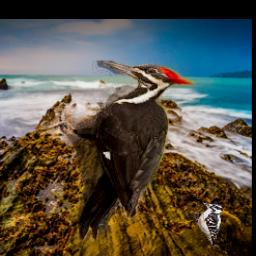Woodpecker: (37, 60, 195, 242), (194, 203, 223, 247)
